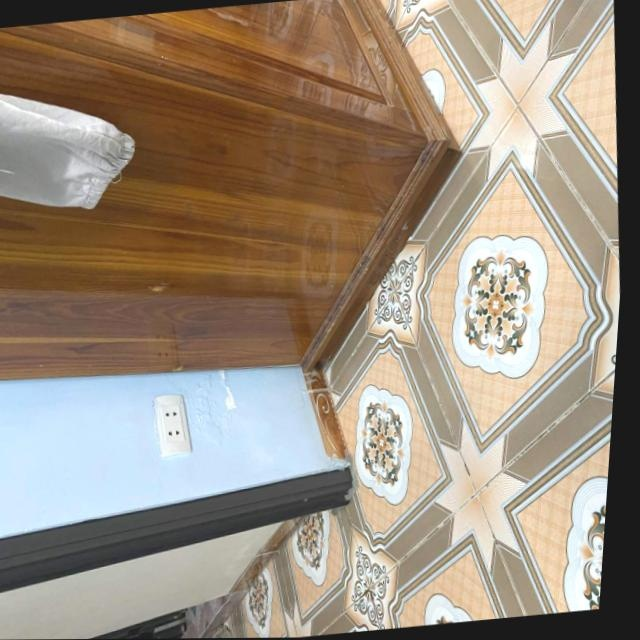outlet: (148, 391, 195, 457)
